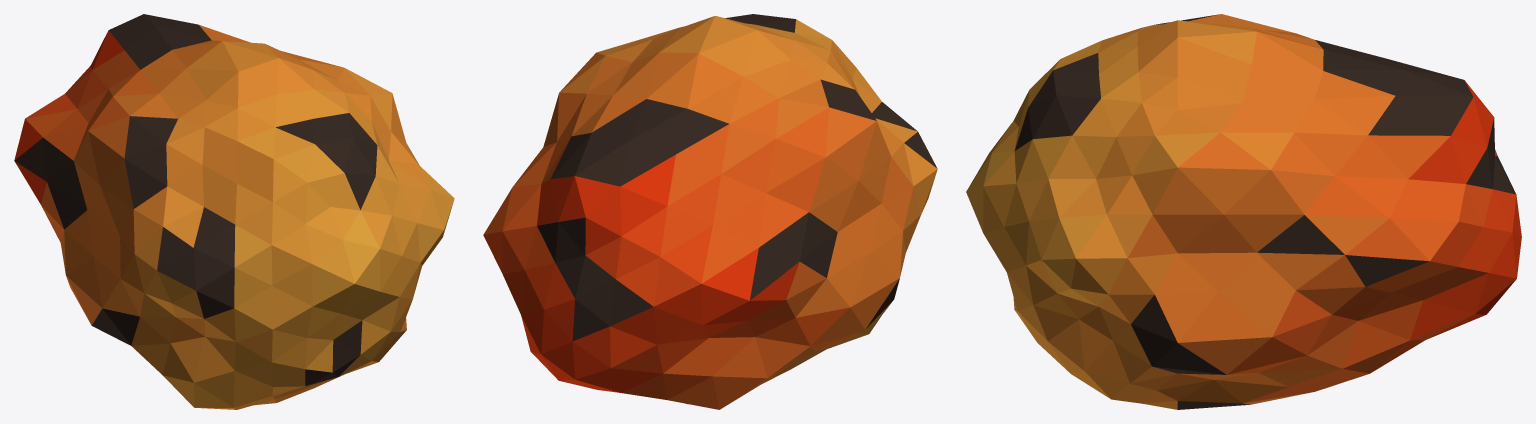
Rendered from lava_blob.glb.
The picture shows the model from 3 angles, left to right: view 1: azimuth 30°, elevation 25°; view 2: azimuth 150°, elevation 25°; view 3: azimuth 270°, elevation 25°; orthographic projection. The views are drawn at different scales.
Visible parts, largest first — view 1: lava_blob; view 2: lava_blob; view 3: lava_blob.
Boxes of the visible parts, x1=… form: lava_blob: x1=14, y1=14, x2=454, y2=409; lava_blob: x1=483, y1=14, x2=937, y2=409; lava_blob: x1=966, y1=14, x2=1521, y2=409.
Bounding box in the file's own units: 1.26 × 1.24 × 1.74.
